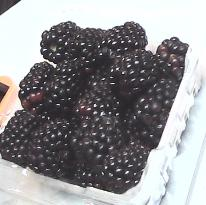berry: (133, 75, 179, 148), (72, 115, 126, 170), (26, 115, 71, 177), (73, 69, 124, 122), (109, 48, 159, 100), (92, 21, 147, 64), (100, 143, 148, 192), (45, 58, 84, 117), (0, 109, 37, 166), (40, 20, 84, 63), (154, 36, 188, 91), (62, 27, 106, 69), (19, 61, 53, 108), (124, 108, 150, 147), (72, 162, 102, 188)
